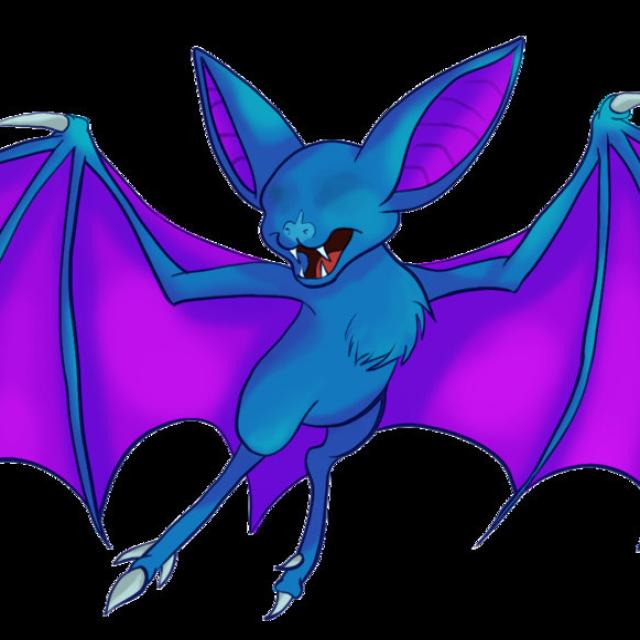Zubat: (101, 47, 600, 509)
